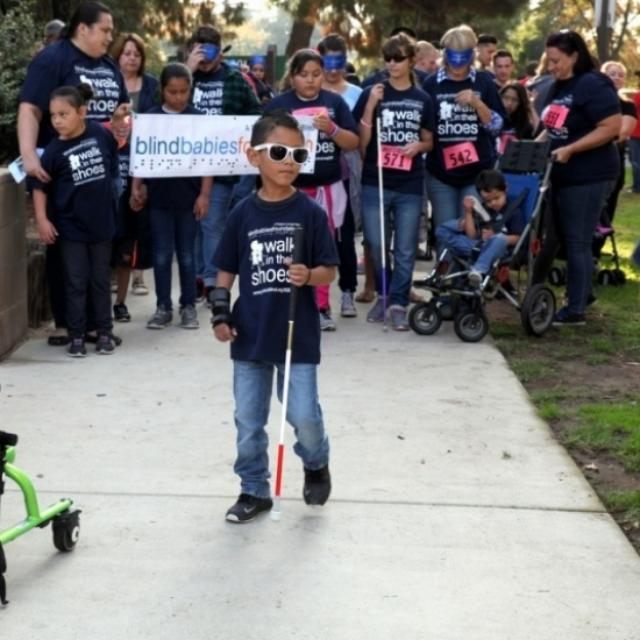head: (245, 112, 307, 188), (546, 33, 590, 83), (74, 4, 116, 56), (50, 86, 88, 138), (289, 49, 325, 99), (442, 29, 478, 77), (160, 64, 194, 112), (190, 26, 224, 74), (382, 35, 418, 79), (318, 34, 348, 84), (476, 170, 508, 214), (118, 34, 148, 74), (602, 60, 628, 92), (112, 113, 134, 143)
person: (198, 104, 346, 530), (8, 0, 136, 350), (253, 42, 369, 336), (18, 79, 136, 363), (523, 22, 627, 336), (411, 18, 513, 322), (346, 28, 442, 338), (162, 21, 262, 311), (124, 54, 223, 333), (291, 27, 371, 324), (96, 22, 174, 300), (574, 51, 640, 286), (430, 162, 534, 292), (94, 91, 150, 332)
